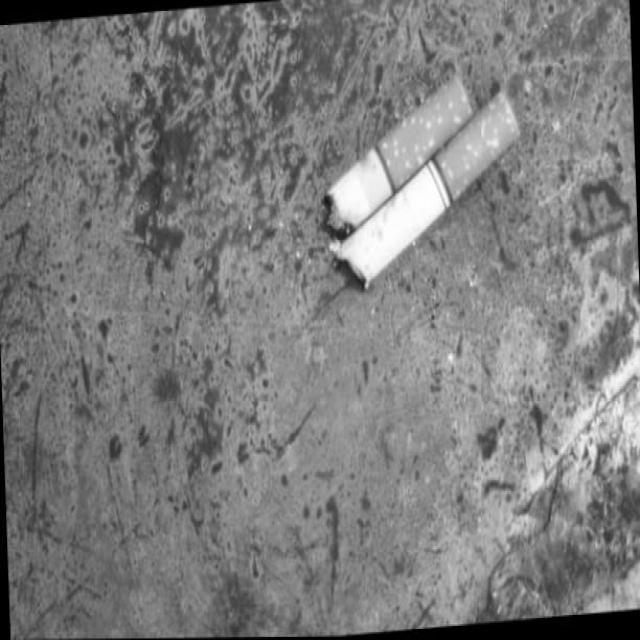cigarette: (317, 68, 530, 293)
